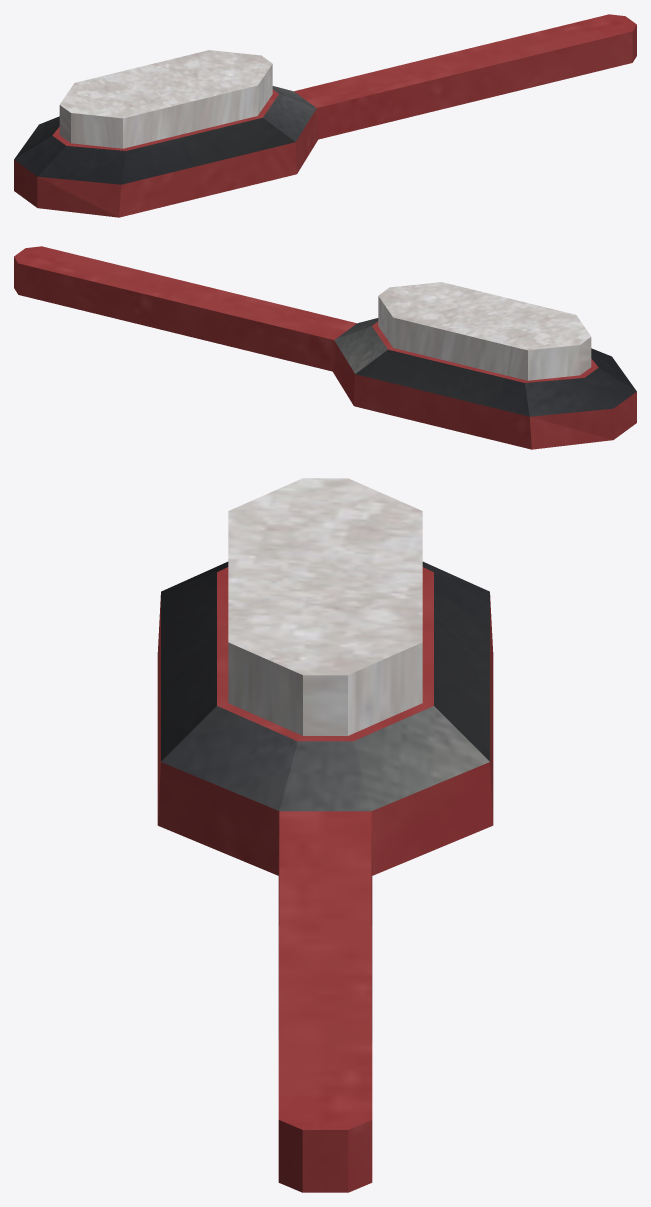
The model's file is comb.FBX.
The picture shows the model from 3 angles, top to bottom: view 1: azimuth 30°, elevation 25°; view 2: azimuth 150°, elevation 25°; view 3: azimuth 270°, elevation 25°; orthographic projection. The views are drawn at different scales.
Visible parts, largest first — view 1: Box001, Object001, Object002; view 2: Box001, Object001, Object002; view 3: Box001, Object001, Object002.
Boxes of the visible parts, x1,y1,x2,y2 form: Box001: (14, 14, 636, 217); Object001: (59, 50, 272, 148); Object002: (14, 86, 316, 184); Box001: (14, 246, 636, 449); Object001: (378, 282, 591, 380); Object002: (334, 318, 636, 416); Box001: (157, 567, 493, 1192); Object001: (228, 478, 422, 735); Object002: (161, 561, 489, 811).
Size of the model in its own units: 146 by 18.65 by 34.96.
Materials: 3 (3 with a texture image).
